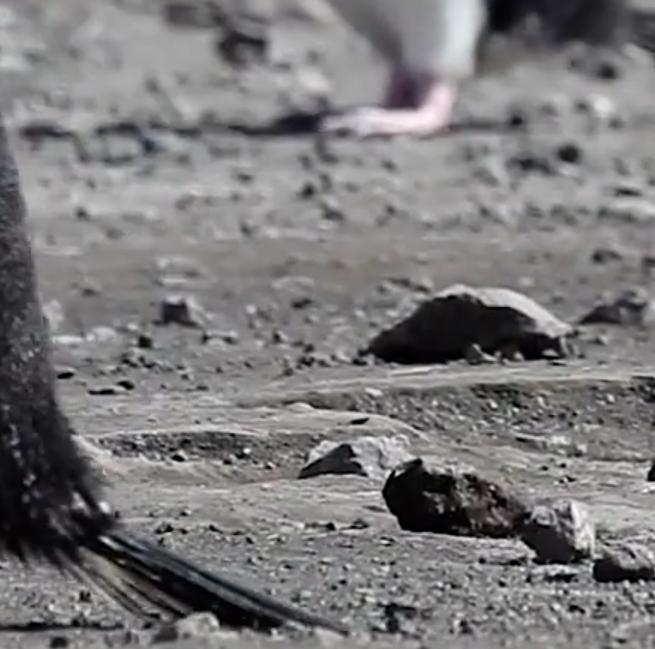Chinstrap Penguin: (96, 0, 598, 132), (0, 0, 98, 631)
